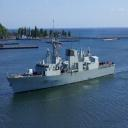Fragata: (7, 20, 117, 97)
